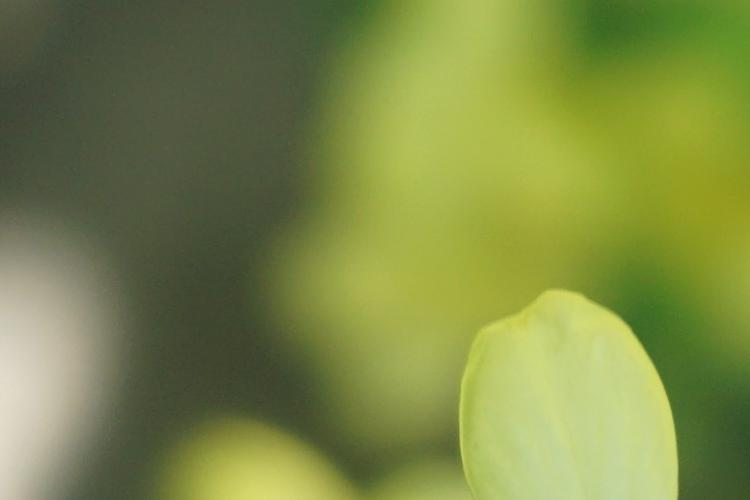yellow: (445, 293, 681, 500)
